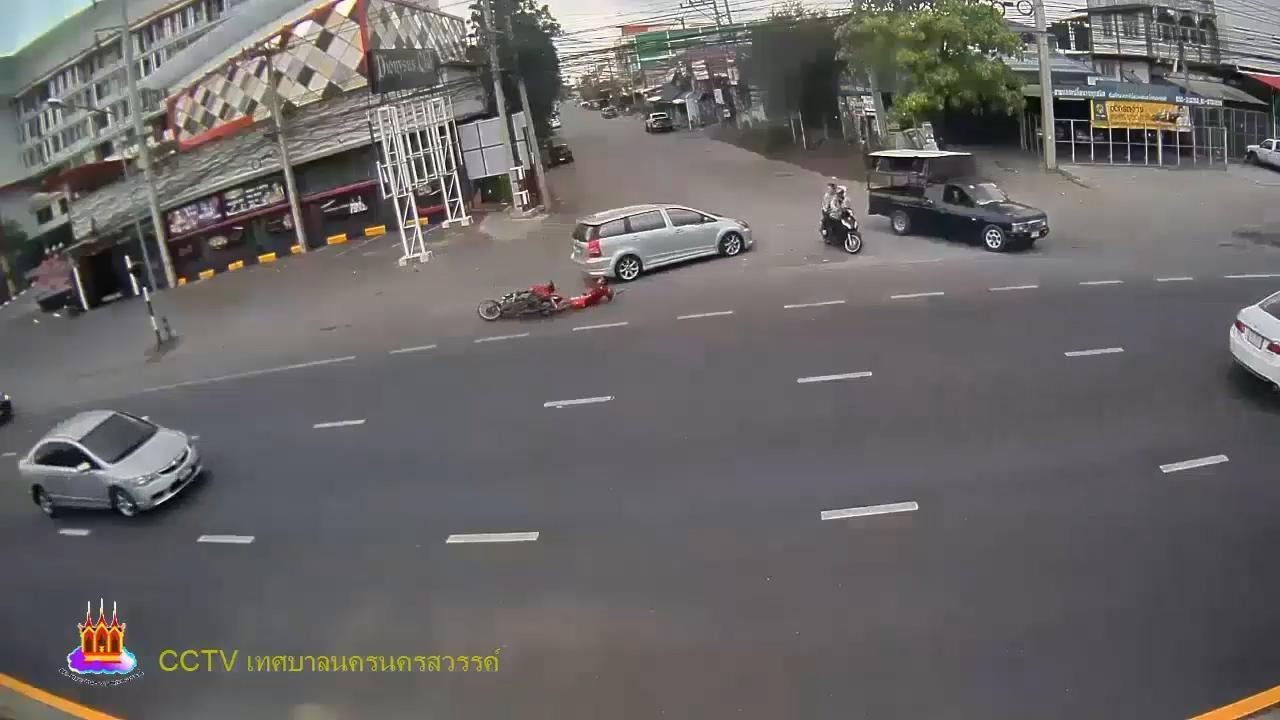accident: (560, 275, 613, 309)
